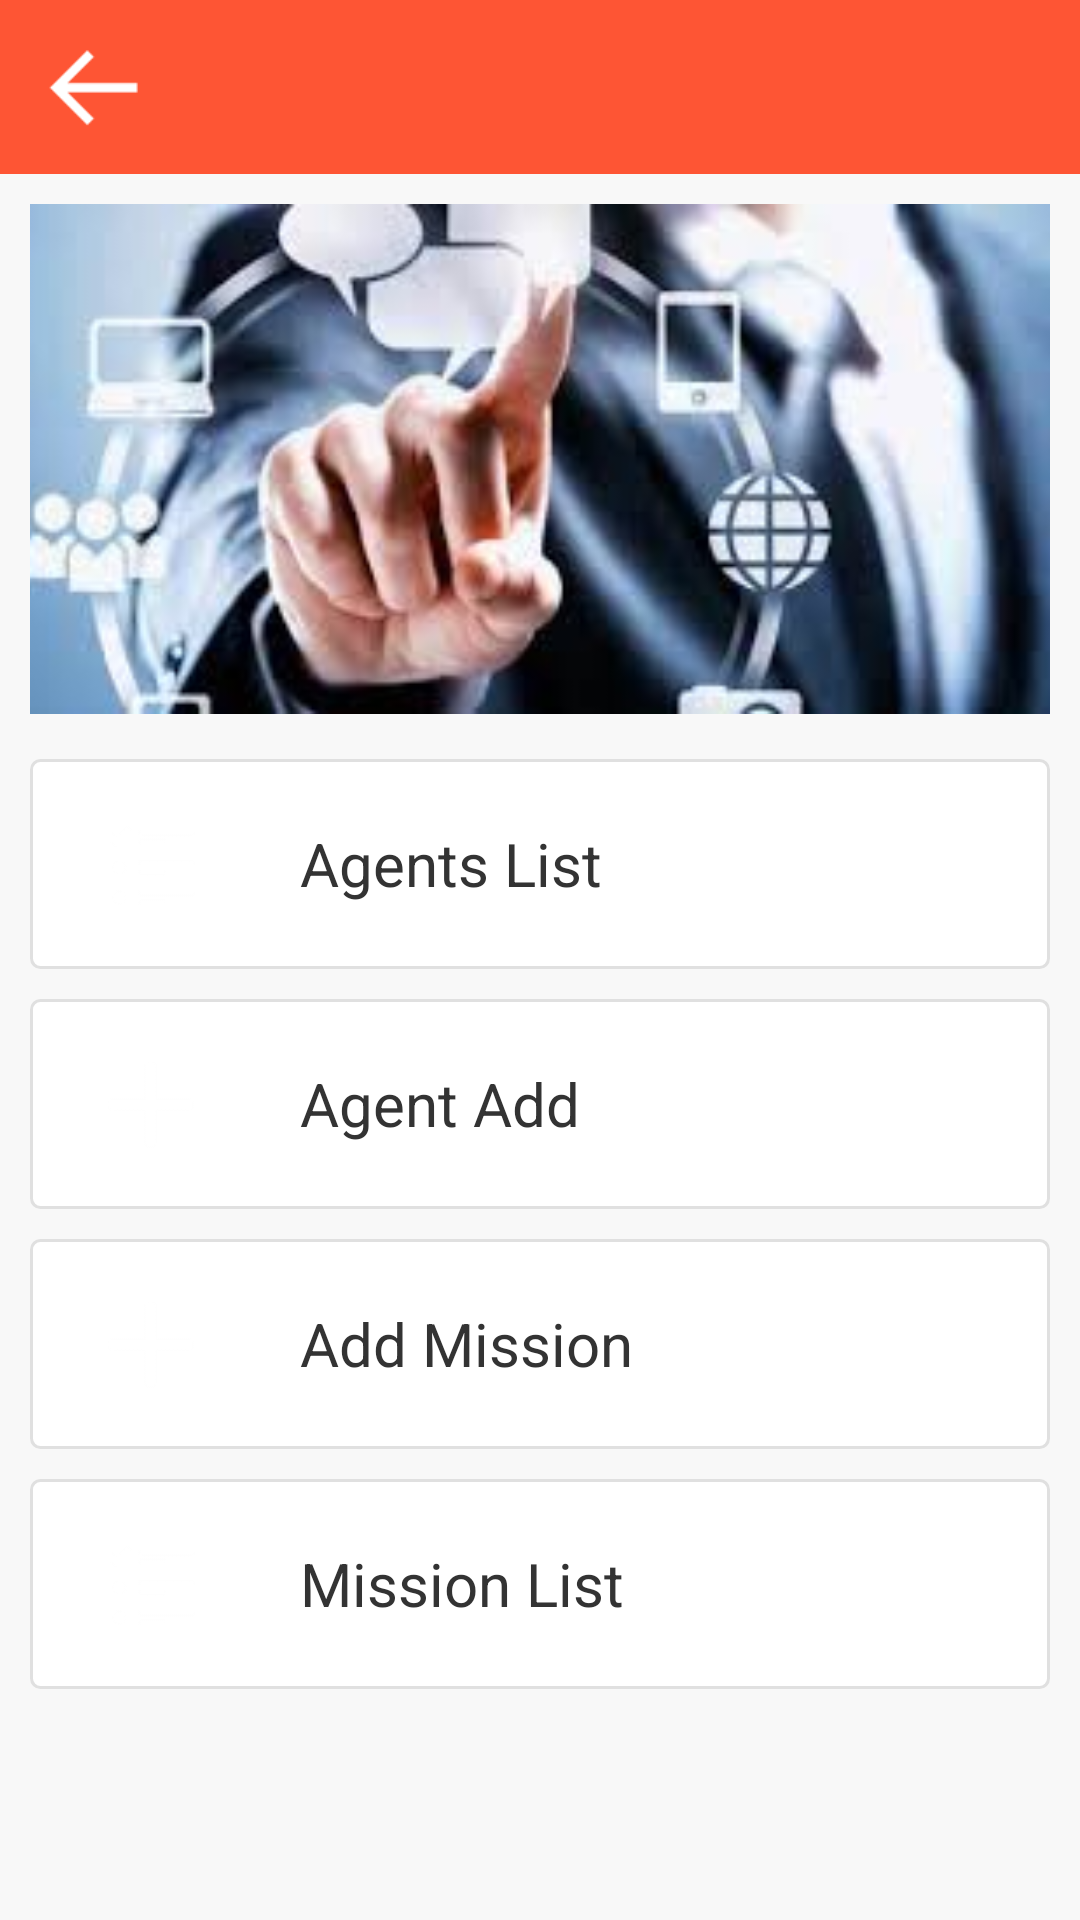

Icon click points for this 1080px x 1920px phone screenshot, format point (x, y):
back: point (93, 87)
